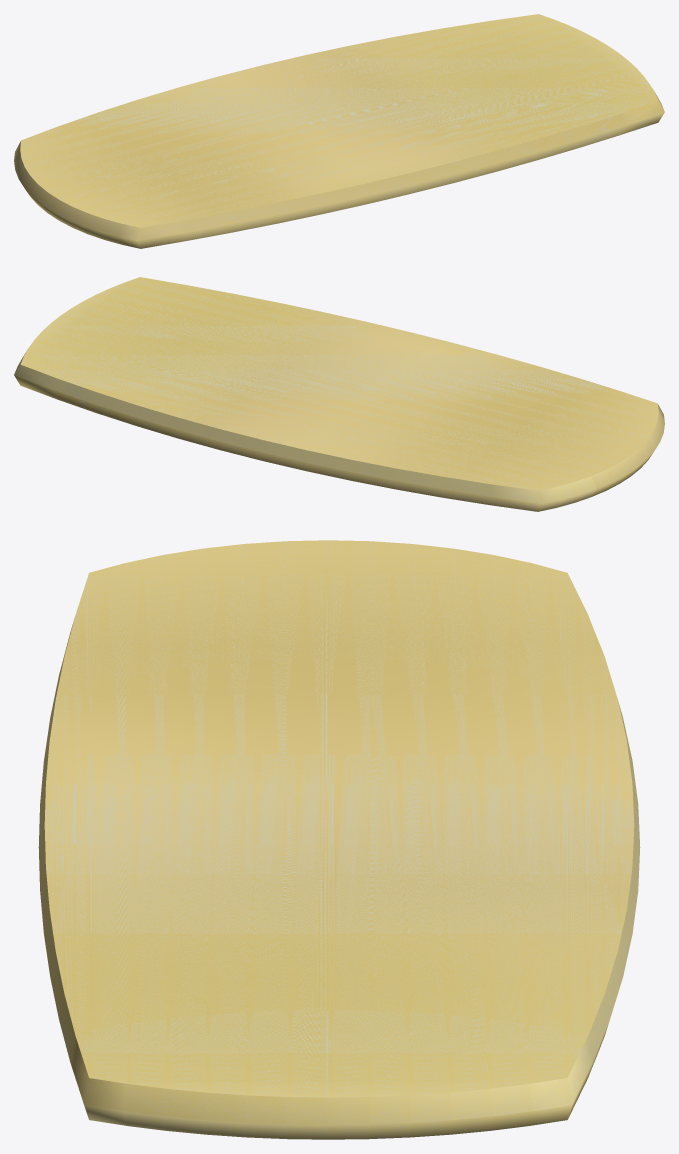
The model's file is original-7.obj.
3 views of the same model, one above another, from view 1: azimuth 30°, elevation 25°; view 2: azimuth 150°, elevation 25°; view 3: azimuth 270°, elevation 25° (orthographic). The views are drawn at different scales.
Parts seen in each view (by area): view 1: Component_7_1/Component_7/mesh5/mesh5-geometry#mesh5-geometry; view 2: Component_7_1/Component_7/mesh5/mesh5-geometry#mesh5-geometry; view 3: Component_7_1/Component_7/mesh5/mesh5-geometry#mesh5-geometry.
Boxes of the visible parts, x1,y1,x2,y2 form: Component_7_1/Component_7/mesh5/mesh5-geometry#mesh5-geometry: (14, 14, 664, 248); Component_7_1/Component_7/mesh5/mesh5-geometry#mesh5-geometry: (14, 277, 664, 511); Component_7_1/Component_7/mesh5/mesh5-geometry#mesh5-geometry: (38, 540, 640, 1139).
Size of the model in its own units: 1.15 by 0.0398 by 0.5157.
